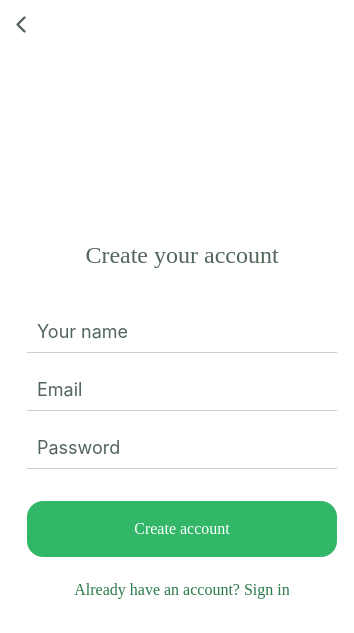
Test: Auth › maps email_taken
Type "Ana" into the field labelled "Your name" at (182, 332), box [27, 311, 337, 353]
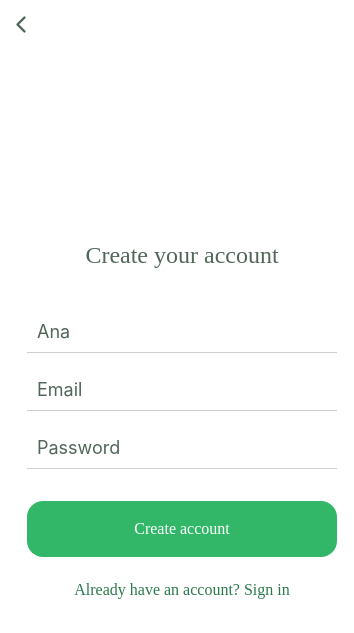
Type "ana@example.com" into the field labelled "Email" at (182, 390), box [27, 369, 337, 411]
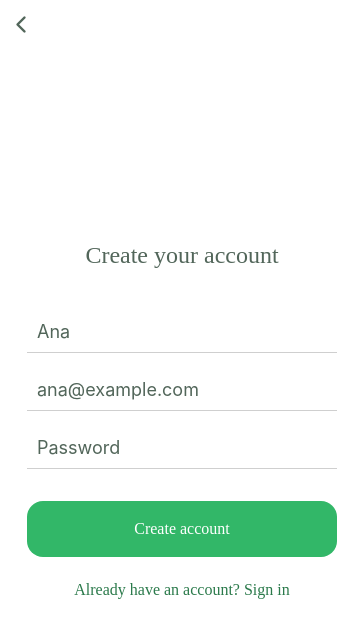
Type "secret123" into the password field labelled "Password" at (182, 448), box [27, 427, 337, 469]
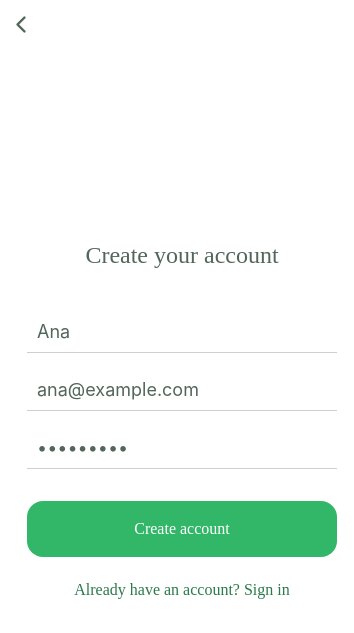
Click the button "Create account" at (182, 529), box [27, 501, 337, 557]
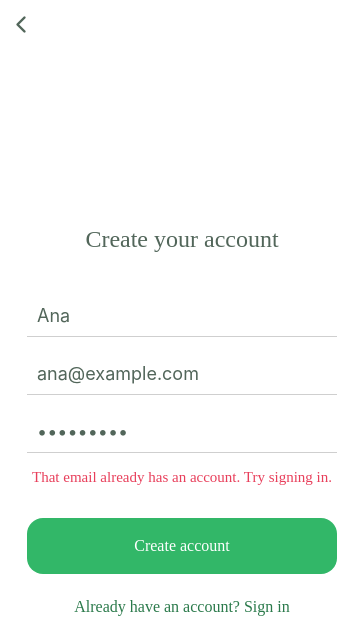
Check: the text "That email already has an account. Try signing in." is shown, box [27, 468, 337, 486]
